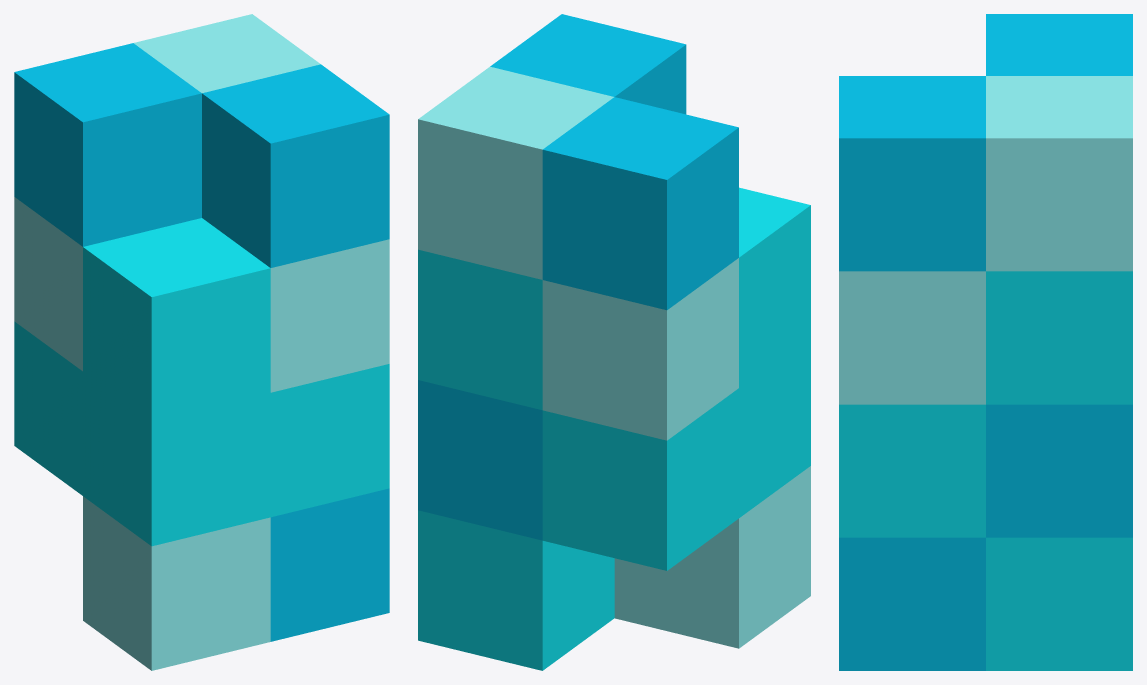
The model's file is Freezer.obj.
3 renders of one model, left to right at view 1: azimuth 30°, elevation 25°; view 2: azimuth 150°, elevation 25°; view 3: azimuth 270°, elevation 25°, orthographic. The views are drawn at different scales.
Visible parts, largest first — view 1: Freezer; view 2: Freezer; view 3: Freezer.
Boxes of the visible parts, left/top/right/bottom form: Freezer: left=14, top=14, right=389, bottom=670; Freezer: left=418, top=14, right=810, bottom=670; Freezer: left=839, top=14, right=1132, bottom=670.
Size of the model in its own units: 2 by 4 by 2.
1 material, 1 textured.
